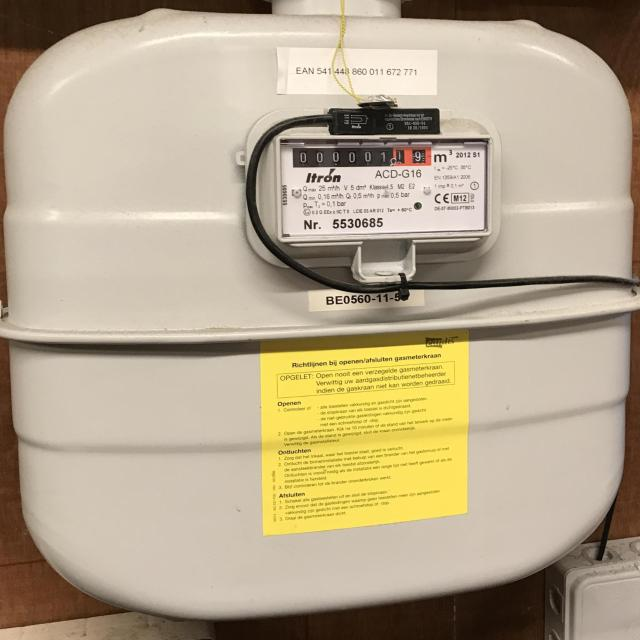gaz_meter: (277, 136, 494, 237)
indication: (293, 147, 431, 167)
